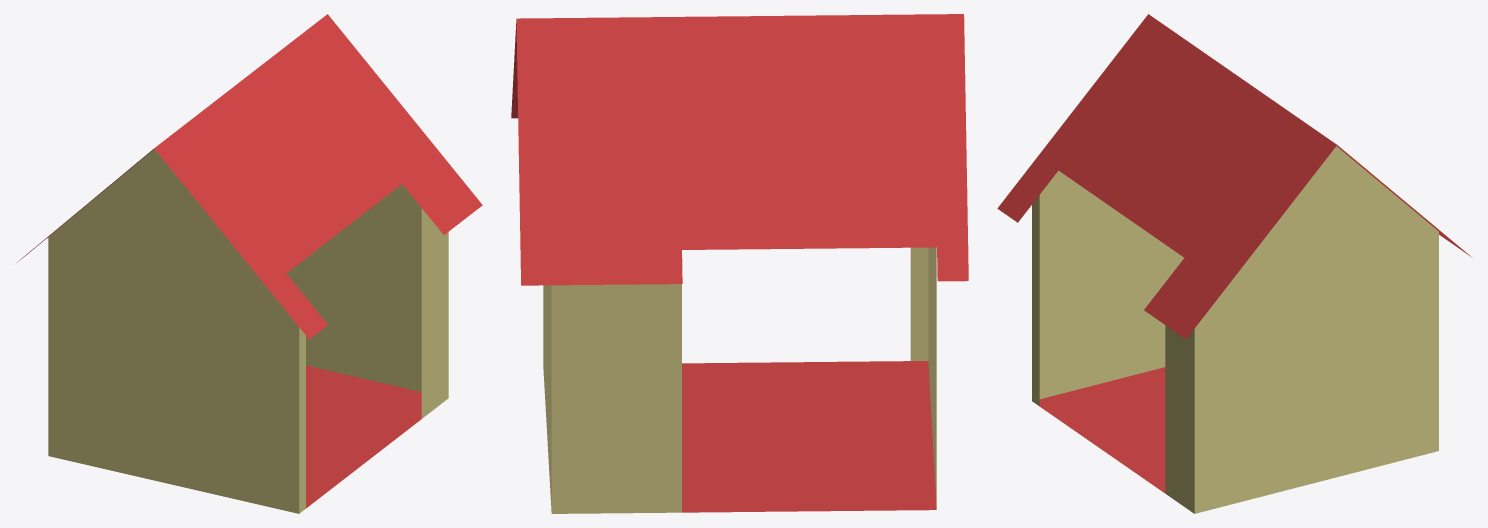
The picture shows the model from 3 angles, left to right: view 1: azimuth 30°, elevation 25°; view 2: azimuth 150°, elevation 25°; view 3: azimuth 270°, elevation 25°; orthographic projection. The views are drawn at different scales.
Bounding box in the file's own units: 14.37 × 14.11 × 11.27.
